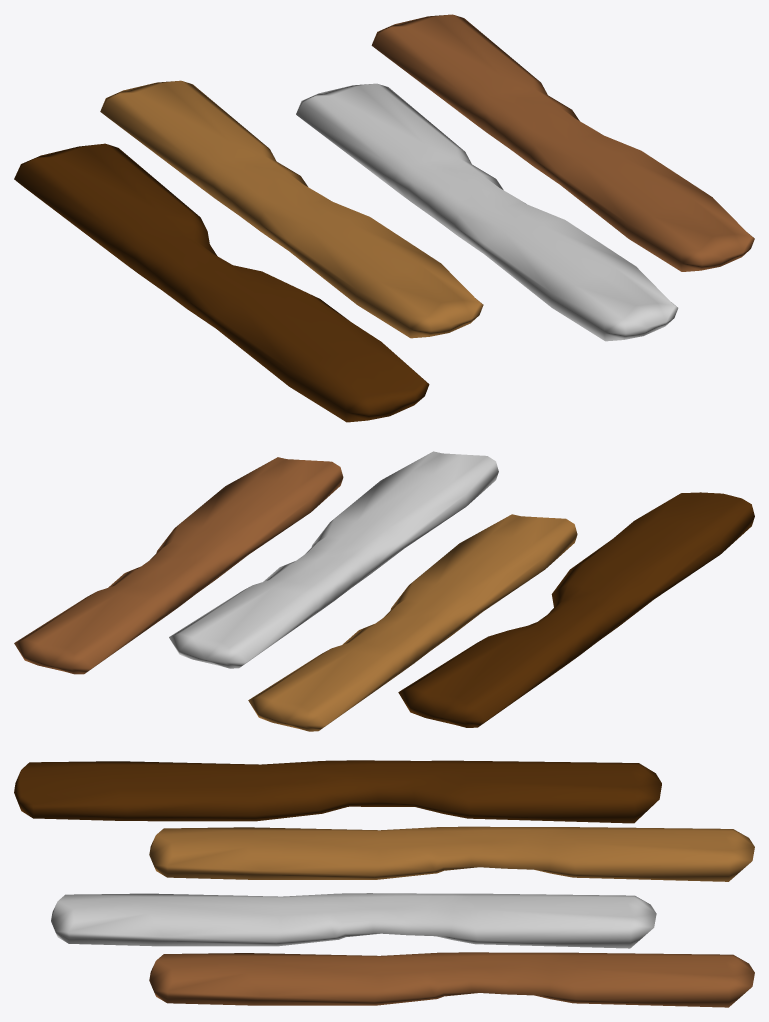
Rendered from Nasypy.obj.
The picture shows the model from 3 angles, top to bottom: view 1: azimuth 30°, elevation 25°; view 2: azimuth 150°, elevation 25°; view 3: azimuth 270°, elevation 25°; orthographic projection. The views are drawn at different scales.
Parts seen in each view (by area): view 1: Plank_248_Triangles.001; view 2: Plank_248_Triangles.001; view 3: Plank_248_Triangles.001.
Part boxes in pixels (bbox=[...]): Plank_248_Triangles.001: bbox=[14, 14, 754, 422]; Plank_248_Triangles.001: bbox=[14, 451, 754, 731]; Plank_248_Triangles.001: bbox=[14, 760, 754, 1007].
Bounding box in the file's own units: 4.85 × 0.2912 × 6.55.
